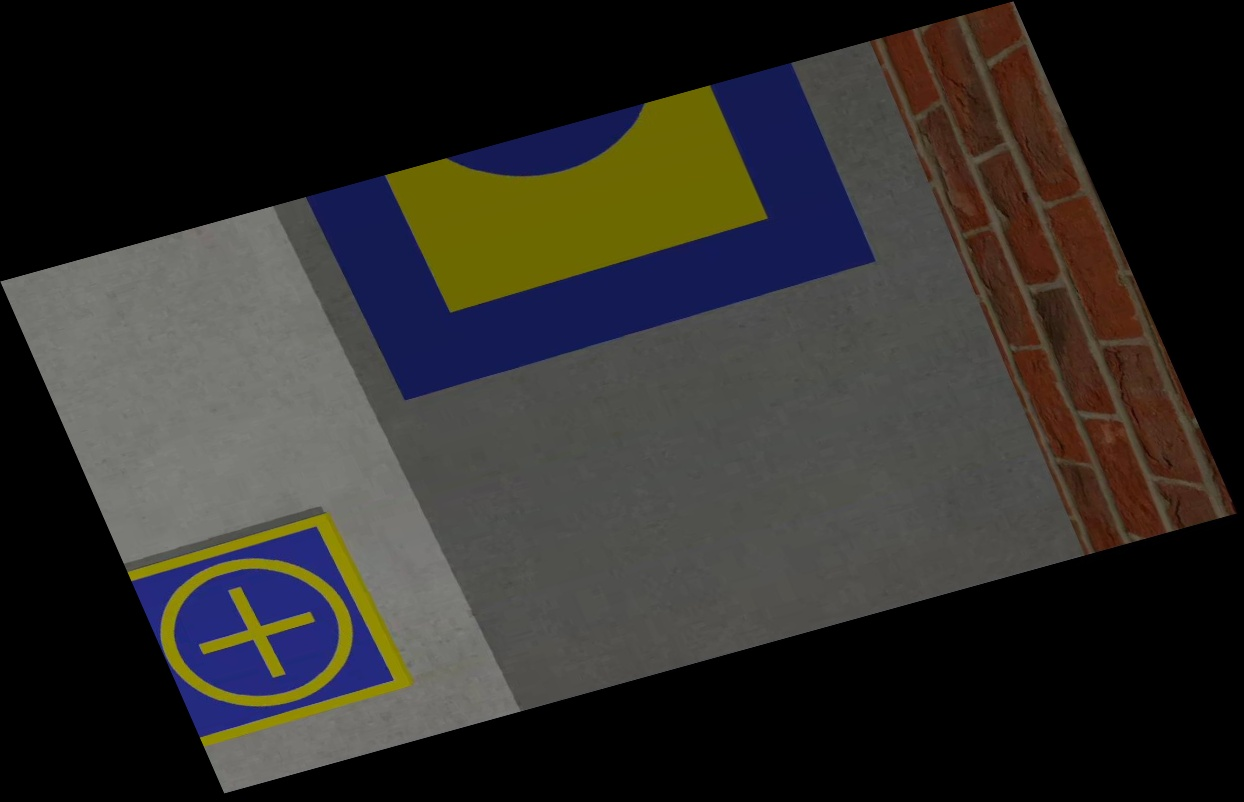large_base: (306, 62, 886, 406)
small_base: (125, 507, 419, 749)
